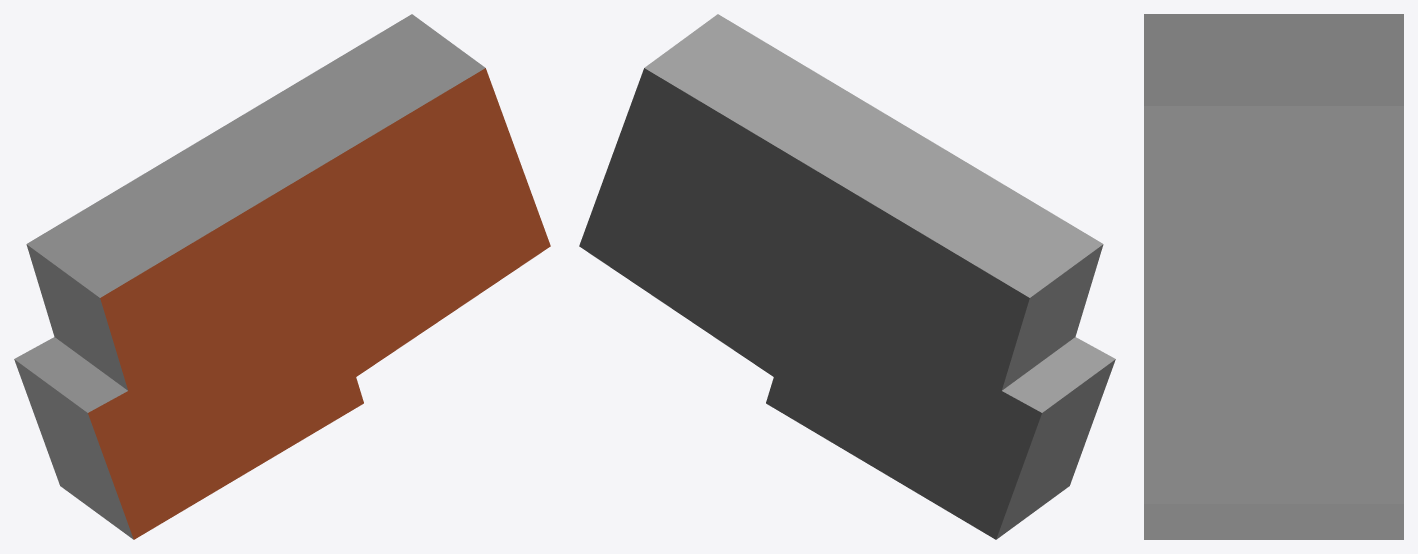
The model's file is construction_5658_assumed_A_Casa_h6m.obj.
3 views of the same model, side by side, from view 1: azimuth 30°, elevation 25°; view 2: azimuth 150°, elevation 25°; view 3: azimuth 270°, elevation 25° (orthographic). The views are drawn at different scales.
Parts seen in each view (by area): view 1: construction_5658_assumed_A_Casa; view 2: construction_5658_assumed_A_Casa; view 3: construction_5658_assumed_A_Casa.
Part boxes in pixels (x1=…): construction_5658_assumed_A_Casa: x1=14, y1=14, x2=550, y2=539; construction_5658_assumed_A_Casa: x1=579, y1=14, x2=1115, y2=539; construction_5658_assumed_A_Casa: x1=1144, y1=14, x2=1403, y2=539.
Size of the model in its own units: 21.75 by 17.33 by 6.
